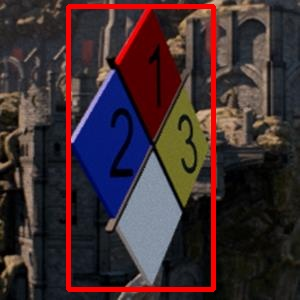nfpa: (68, 6, 213, 289)
